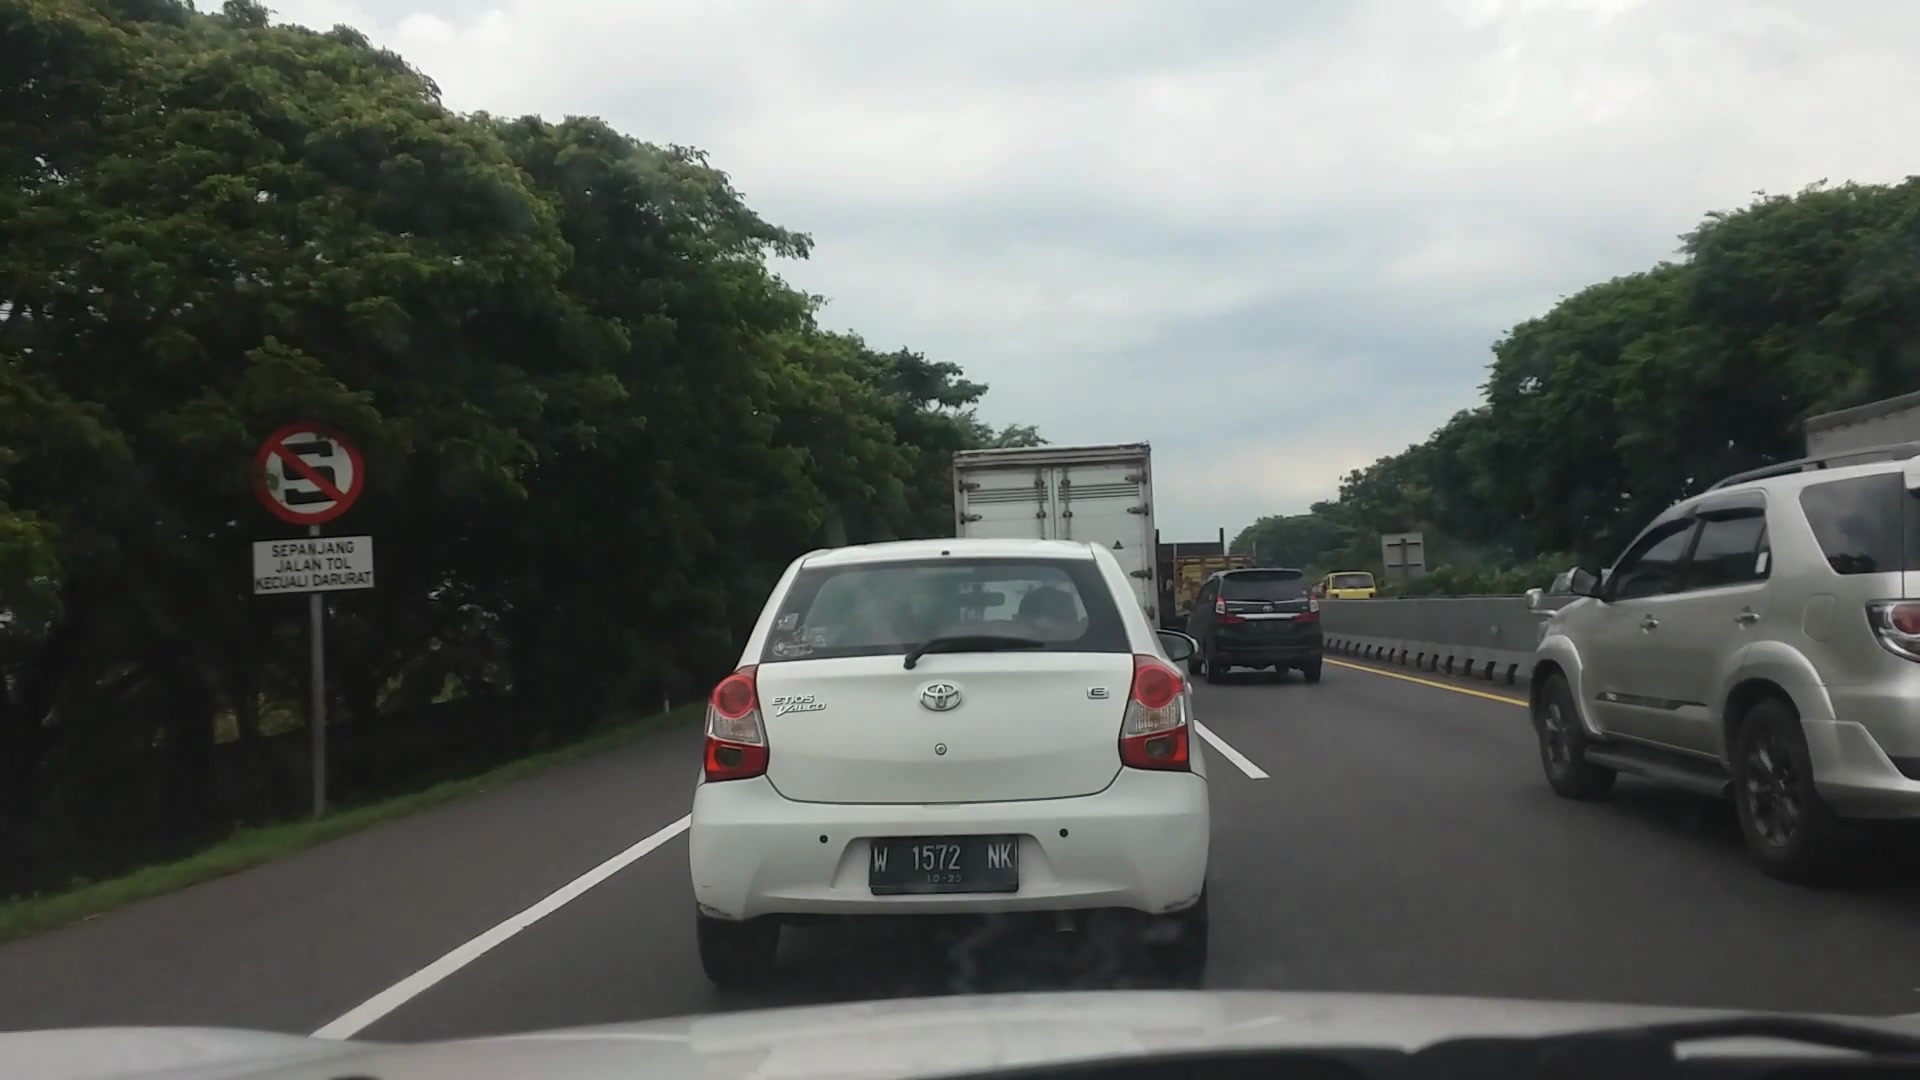plate_positive: (869, 833, 1019, 895)
